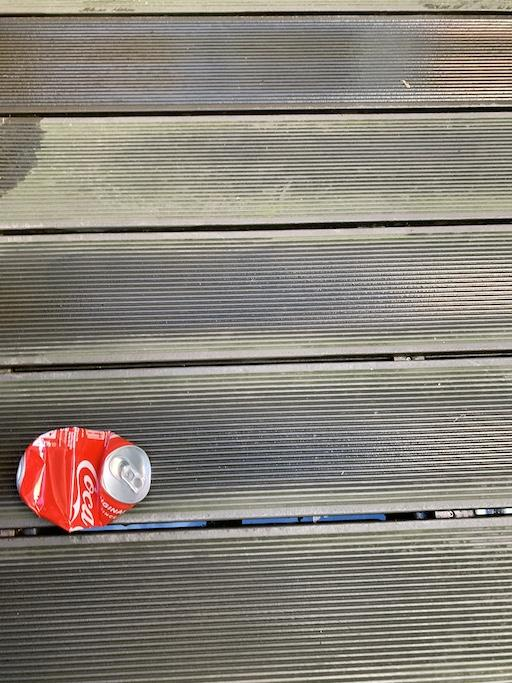Aluminum can: (8, 418, 178, 538)
